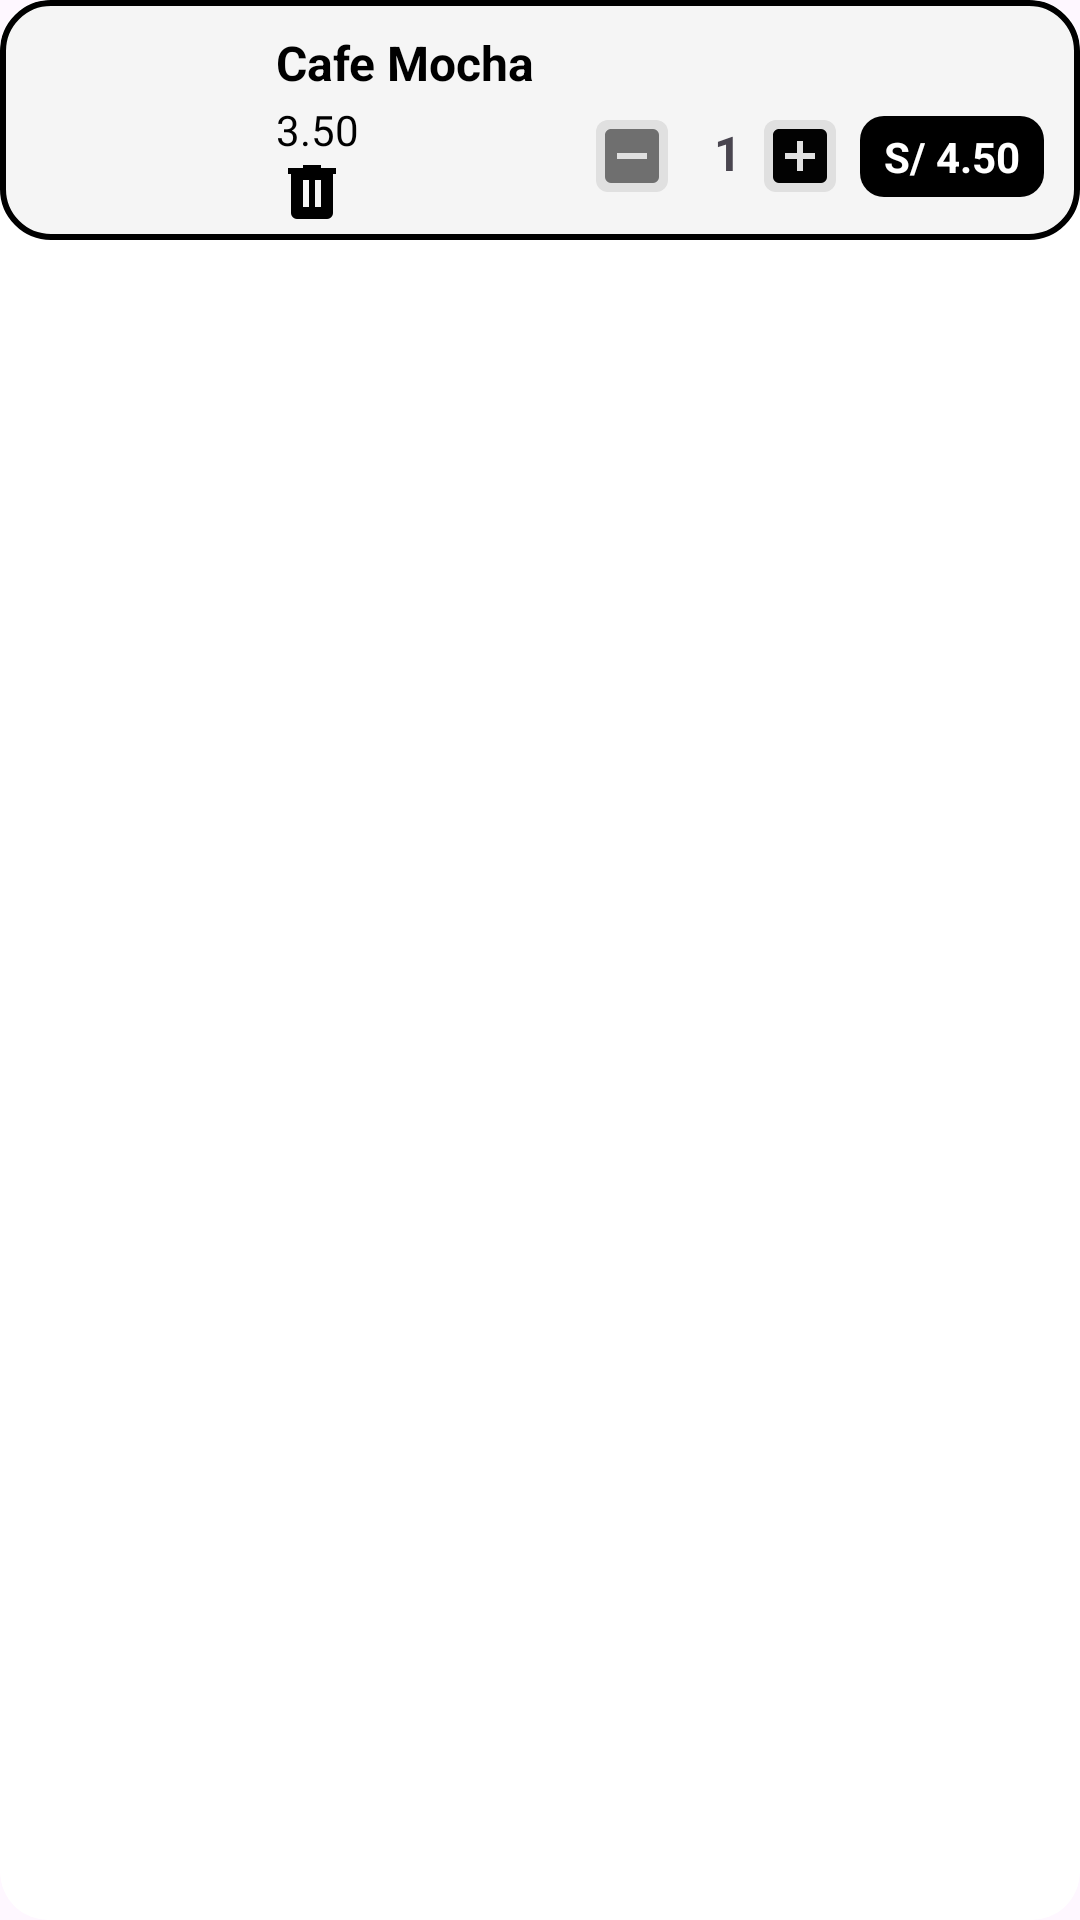

Where icons sit on this 1080px x 1920px app screen, as (x1, y1, x2, y2):
delete: (288, 144, 336, 219)
minus: (605, 129, 659, 183)
plus: (773, 129, 827, 183)
